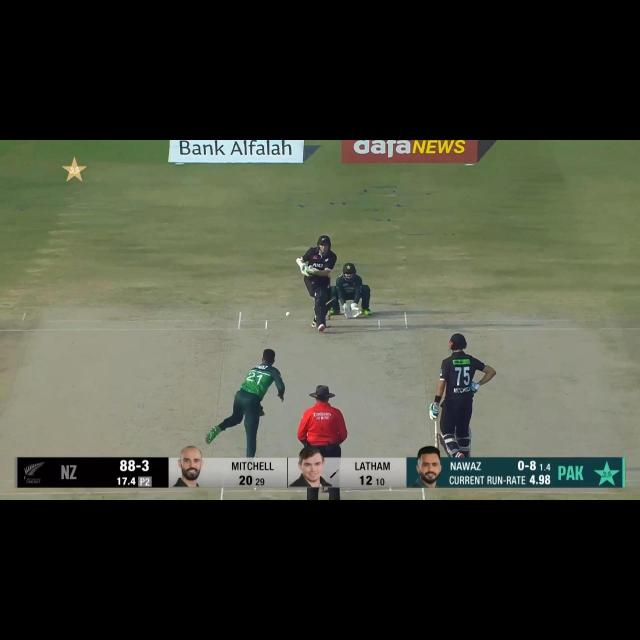bat: (434, 429, 441, 456), (308, 266, 320, 274)
toe: (313, 269, 320, 273)
